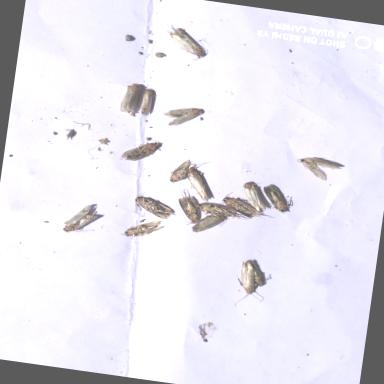pbw: (225, 258, 272, 314), (158, 18, 214, 63), (289, 149, 350, 186), (60, 196, 110, 241), (180, 162, 227, 207), (156, 100, 212, 136), (162, 152, 212, 192), (112, 132, 164, 170), (128, 188, 185, 222), (118, 210, 168, 248), (254, 179, 304, 217), (235, 178, 277, 217), (114, 76, 150, 120), (217, 188, 263, 222), (238, 255, 280, 289), (181, 210, 228, 238), (192, 198, 244, 223), (170, 189, 204, 226), (133, 83, 159, 118)
